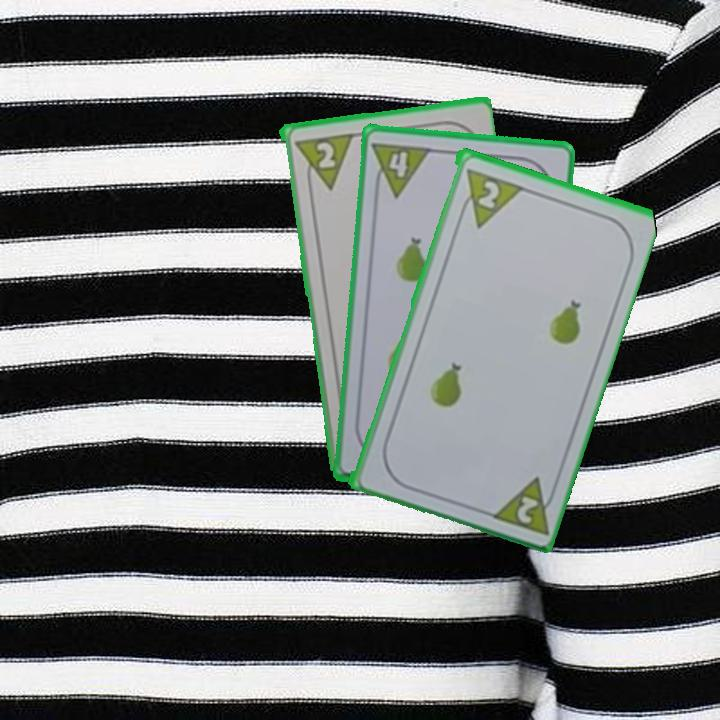2p: (484, 472, 561, 537), (290, 129, 354, 195), (473, 176, 503, 212)
4p: (369, 139, 434, 200)
